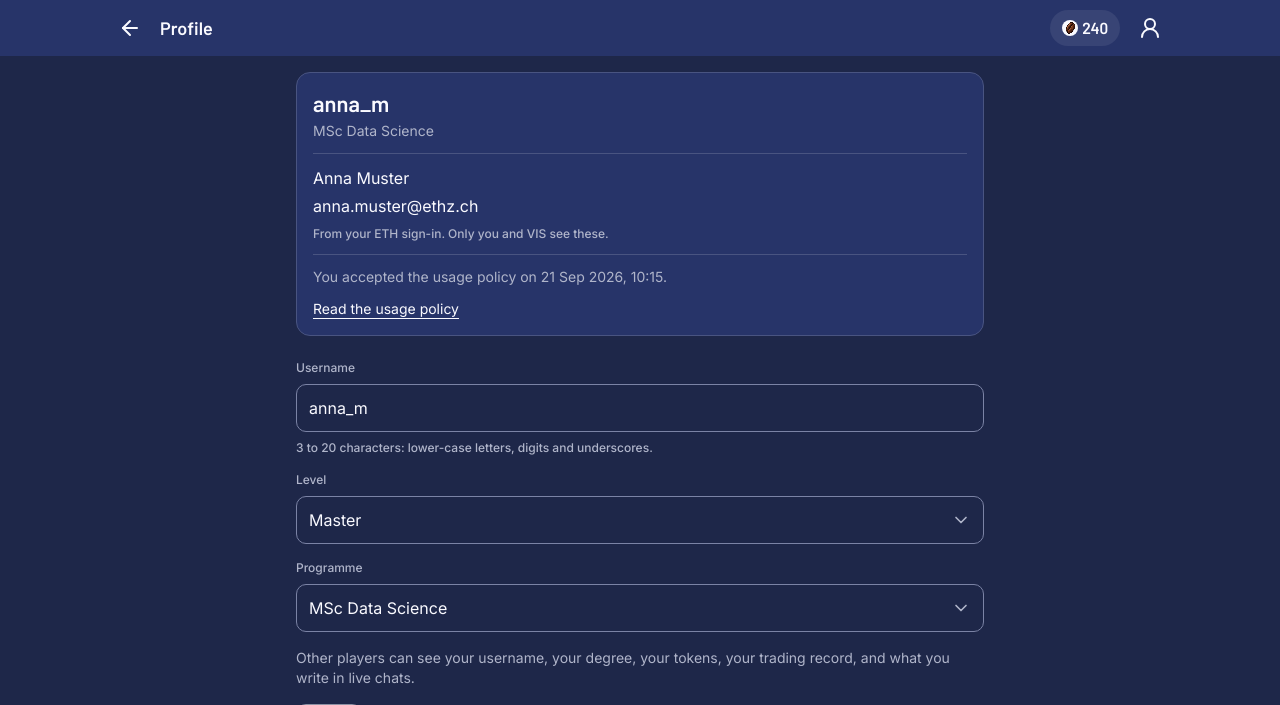
it: saving › the balance the answer carries is the balance: nothing is worked out
In the field labelled "Username": x=640, y=408 top-left (296, 384), bottom-right (984, 432), type "2"
(page scrolled)
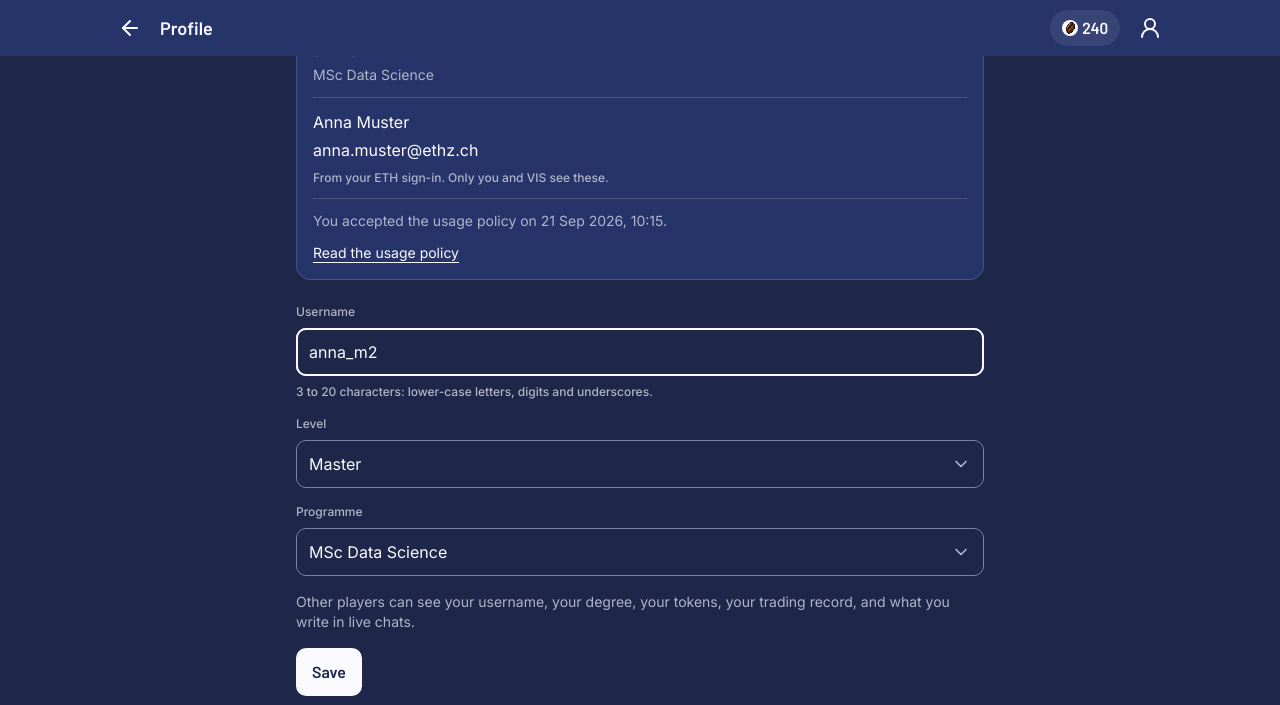
Click the button "Save": x=329, y=672 top-left (296, 648), bottom-right (362, 696)
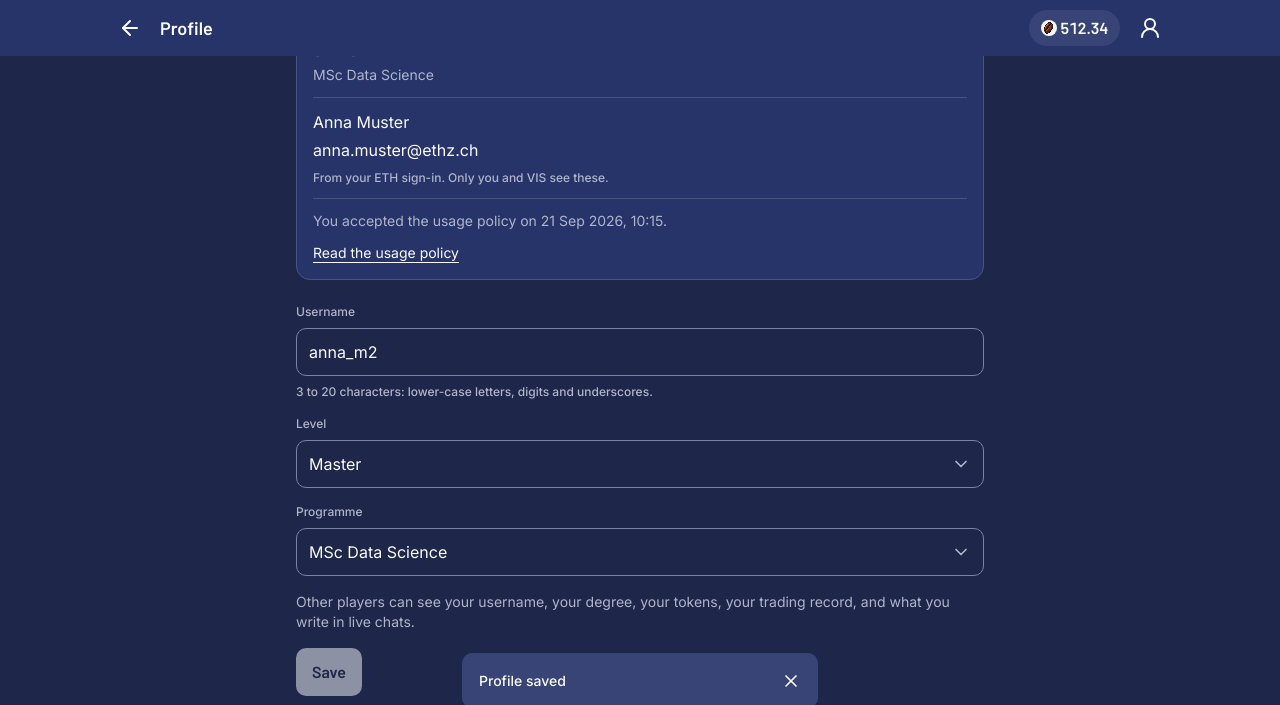
Expected: the text "Profile saved" is shown, top-left (479, 670), bottom-right (566, 691)
